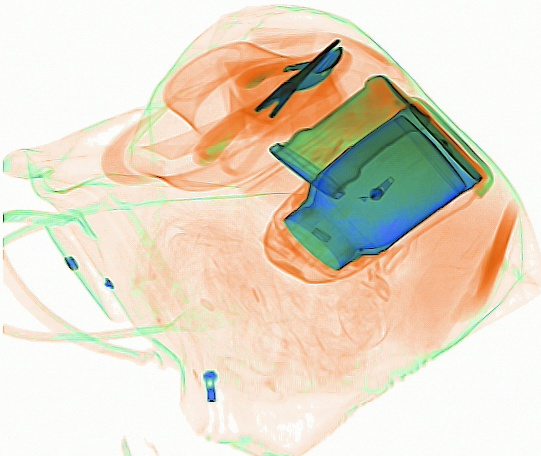scissors: (194, 36, 341, 176)
